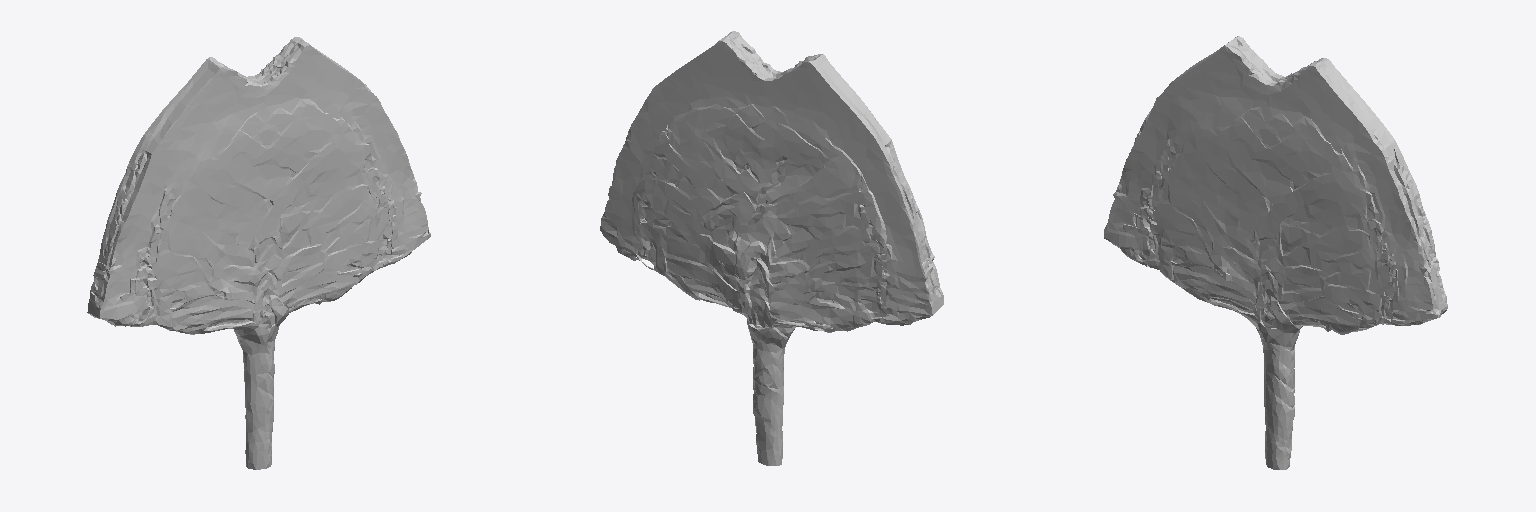
The model's file is tuvalu_fan_0424054346_texture.obj.
The picture shows the model from 3 angles: view 1: azimuth 30°, elevation 25°; view 2: azimuth 150°, elevation 25°; view 3: azimuth 330°, elevation 25°; orthographic projection.
Visible parts, largest first — view 1: tuvalu_fan_[number redacted]_texture; view 2: tuvalu_fan_[number redacted]_texture; view 3: tuvalu_fan_[number redacted]_texture.
Part boxes in pixels (left/top/right/bottom): tuvalu_fan_[number redacted]_texture: left=87, top=37, right=430, bottom=469; tuvalu_fan_[number redacted]_texture: left=600, top=31, right=943, bottom=465; tuvalu_fan_[number redacted]_texture: left=1104, top=36, right=1447, bottom=469.
Size of the model in its own units: 1.68 by 2 by 0.2409.